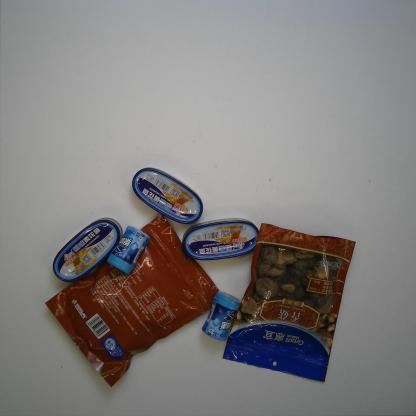Canned Food: (52, 216, 124, 284), (131, 166, 204, 225), (181, 217, 260, 262)
Dried Food: (44, 212, 220, 388), (219, 222, 356, 383)
Gum: (106, 224, 151, 276), (201, 290, 242, 342)
